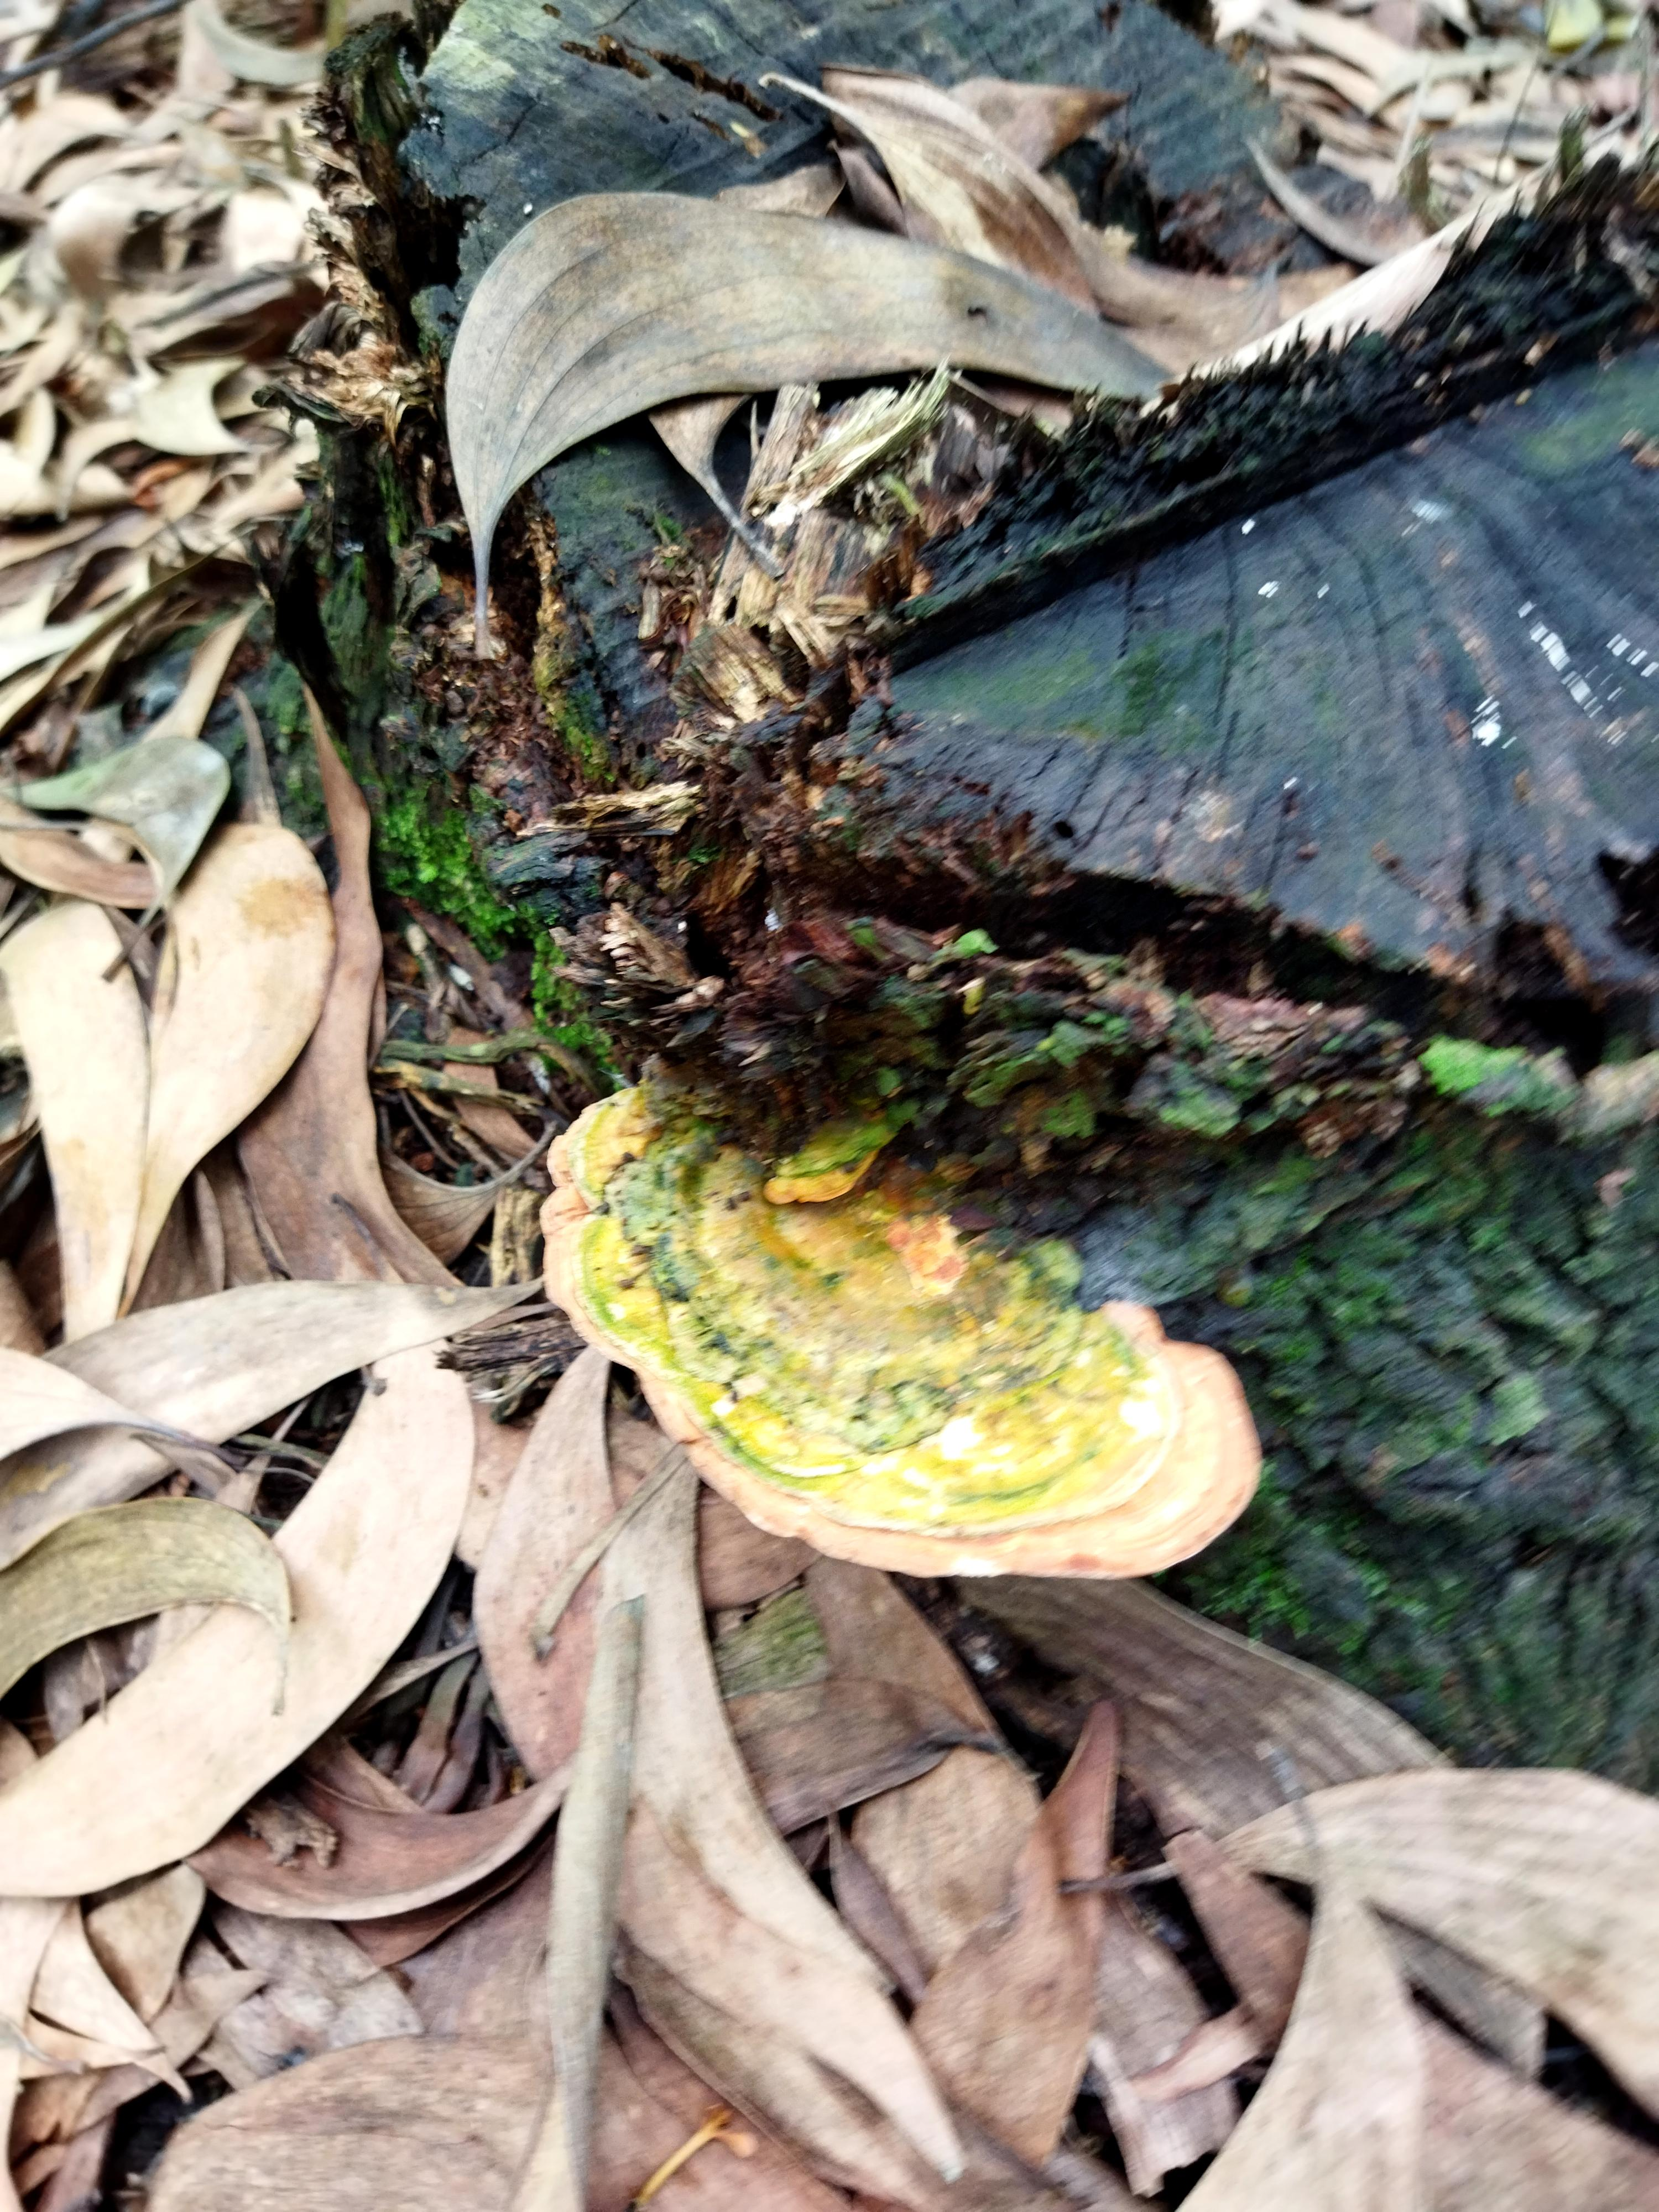Ganoderma - Fruit Body: (532, 1057, 1276, 1594)
